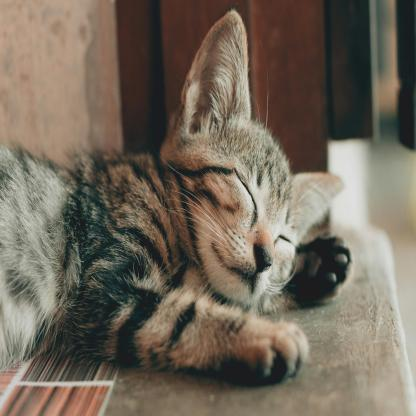cat: (0, 5, 356, 393)
